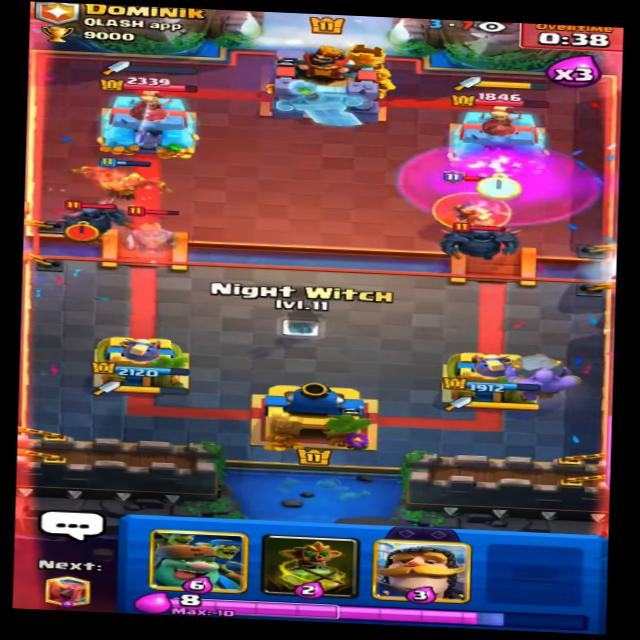evo-wizard: (424, 167, 522, 231)
pekka: (53, 191, 136, 245), (435, 215, 522, 265)
royal-ghost: (113, 202, 193, 263)
